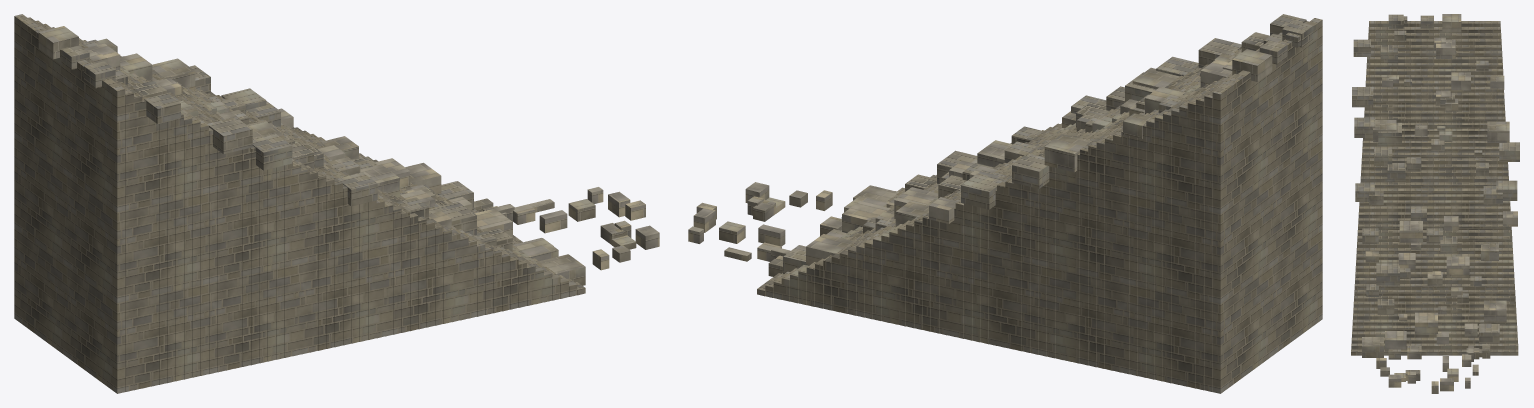
The model's file is fort-rubble.zfix-v9.lod0.glb.
3 views of the same model, side by side, from view 1: azimuth 30°, elevation 25°; view 2: azimuth 150°, elevation 25°; view 3: azimuth 270°, elevation 25° (orthographic). The views are drawn at different scales.
Visible parts, largest first — view 1: fort-rubble; view 2: fort-rubble; view 3: fort-rubble.
Boxes of the visible parts, x1,y1,x2,y2 form: fort-rubble: (14, 14, 659, 393); fort-rubble: (688, 14, 1322, 393); fort-rubble: (1351, 14, 1519, 393).
Size of the model in its own units: 28.29 by 14.51 by 11.09.
Materials: 2 (2 with a texture image).
